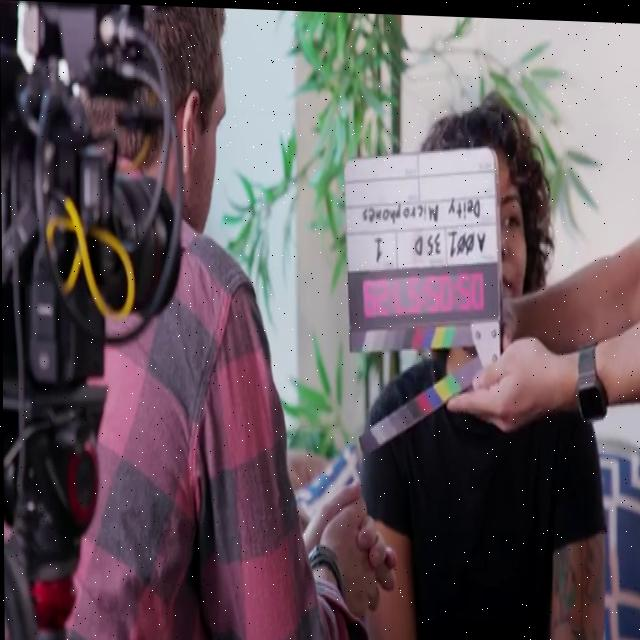Clapperboard: (339, 136, 505, 461)
